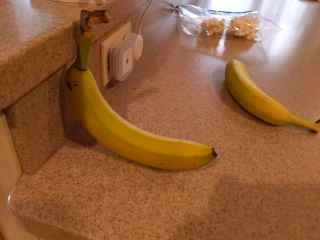banana: (63, 6, 219, 173), (223, 51, 320, 140)
